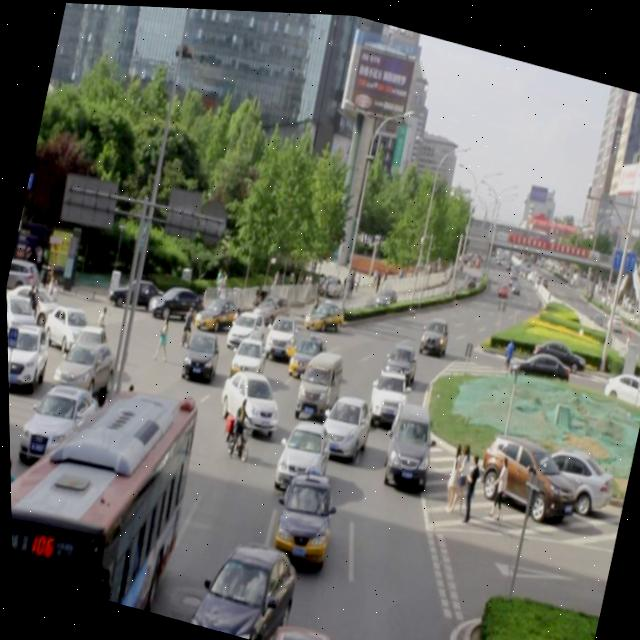car: (184, 527, 296, 640), (265, 463, 337, 565), (212, 360, 286, 438), (377, 394, 438, 488), (268, 411, 332, 498), (313, 386, 372, 460), (361, 361, 409, 425), (287, 322, 334, 379), (258, 306, 302, 365), (221, 303, 268, 356), (224, 330, 269, 384), (178, 325, 221, 380), (305, 287, 352, 334), (378, 334, 418, 384), (260, 614, 335, 640), (415, 310, 450, 353)
truck: (289, 341, 346, 420)
van: (6, 357, 200, 614)
